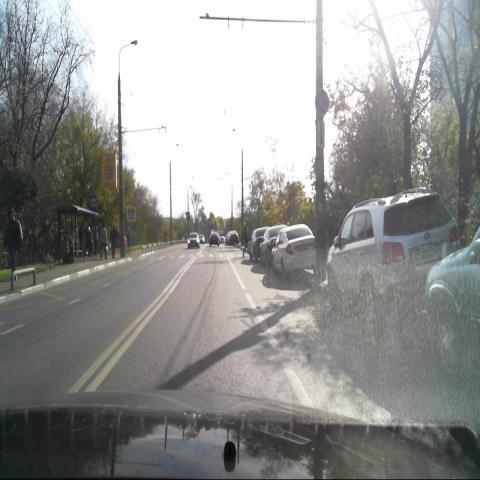8_2_3: (316, 120, 324, 149)
